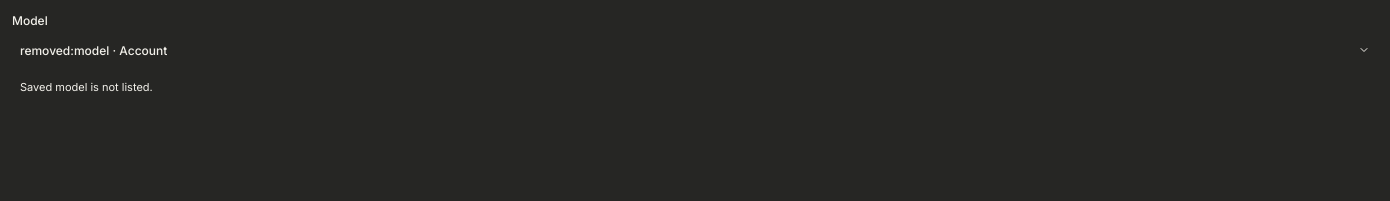
Test: keeps an unavailable selection unchanged and uses catalog reasoning capabilities when switching
Later steps or results of the test are not shown.
Click the button "removed:model · Account" at (94, 50), box [12,33,1378,67]
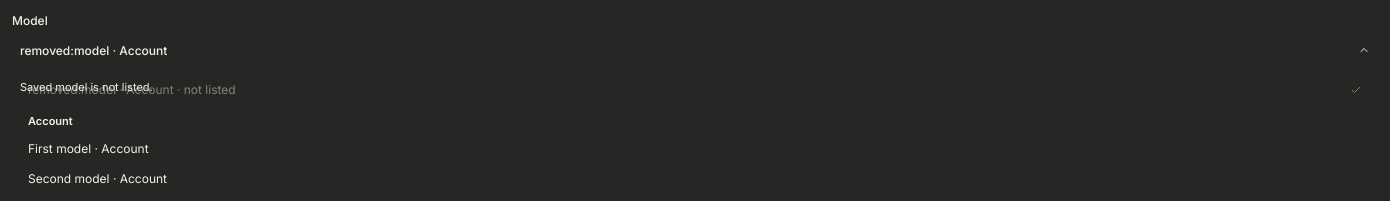
Result: the option "removed:model · Account · not listed" is shown at [20,75,1370,105]
